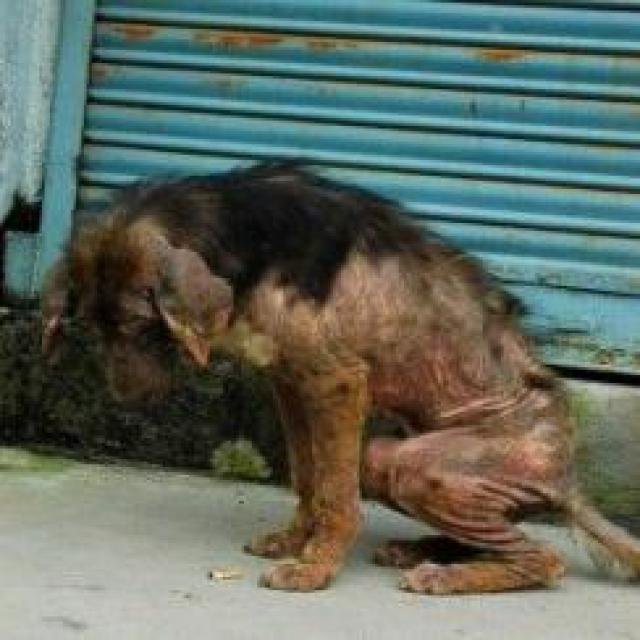fungal infection: (376, 419, 568, 498), (101, 234, 238, 328), (368, 324, 521, 400)
